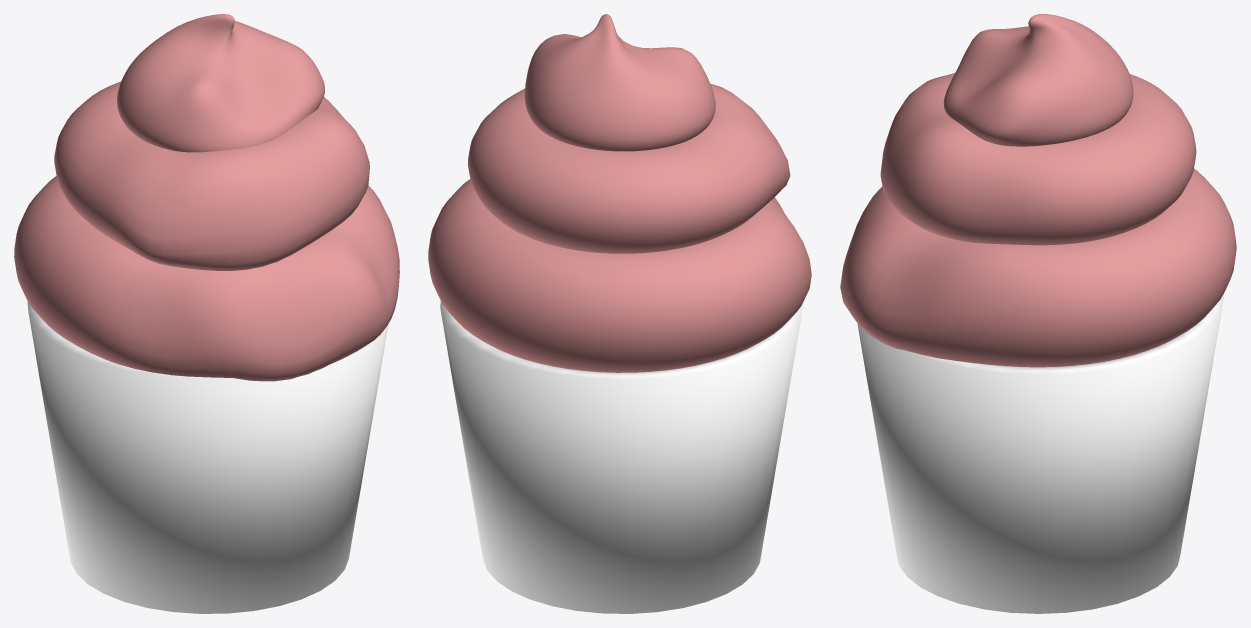
The model's file is strawberry_good.glb.
3 views of the same model, side by side, from view 1: azimuth 30°, elevation 25°; view 2: azimuth 150°, elevation 25°; view 3: azimuth 270°, elevation 25° (orthographic). The views are drawn at different scales.
Visible parts, largest first — view 1: 圓柱體, 環體, 環體.001, 球體; view 2: 圓柱體, 環體, 環體.001, 球體; view 3: 圓柱體, 環體, 環體.001, 球體.
Boxes of the visible parts, <box> form: 圓柱體: <box>27,301,388,613</box>; 環體: <box>14,176,399,381</box>; 環體.001: <box>54,81,369,270</box>; 球體: <box>117,14,324,152</box>; 圓柱體: <box>440,301,802,613</box>; 環體: <box>428,179,811,372</box>; 環體.001: <box>468,83,790,253</box>; 球體: <box>524,14,715,151</box>; 圓柱體: <box>857,294,1223,613</box>; 環體: <box>840,169,1236,367</box>; 環體.001: <box>880,73,1196,245</box>; 球體: <box>943,14,1133,146</box>.
Size of the model in its own units: 2.91 by 4.46 by 2.94.
Materials: 2 (1 with a texture image).
